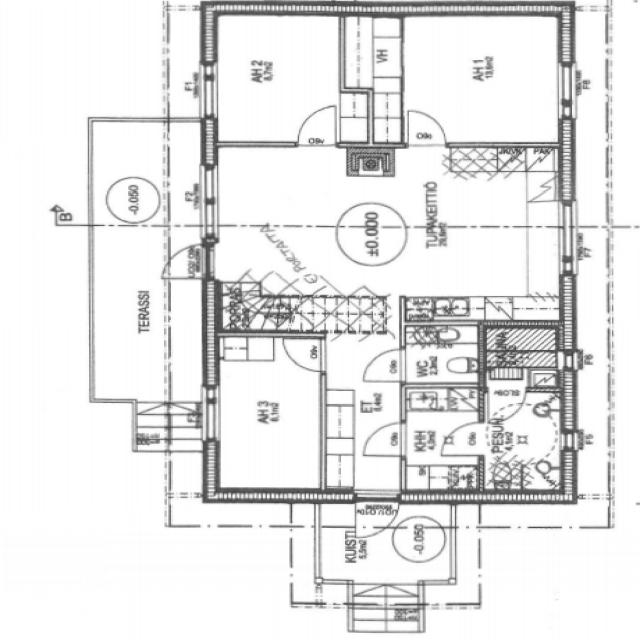door: (290, 100, 342, 149), (352, 488, 400, 539), (130, 400, 173, 456), (358, 420, 410, 462), (400, 105, 449, 149), (360, 345, 410, 385), (279, 335, 329, 374), (482, 384, 528, 424), (163, 242, 208, 282)
window: (551, 198, 582, 276), (197, 159, 224, 237), (552, 57, 579, 126), (198, 383, 225, 448), (196, 58, 222, 124)
zone: (399, 12, 564, 147), (207, 330, 325, 496), (207, 224, 377, 330), (208, 13, 342, 145), (405, 226, 554, 324), (483, 391, 569, 498), (403, 406, 487, 492), (401, 320, 483, 400), (334, 199, 410, 274), (339, 14, 402, 93), (131, 406, 172, 454)
